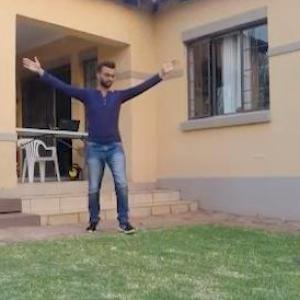takeoff: (49, 37, 209, 241)
